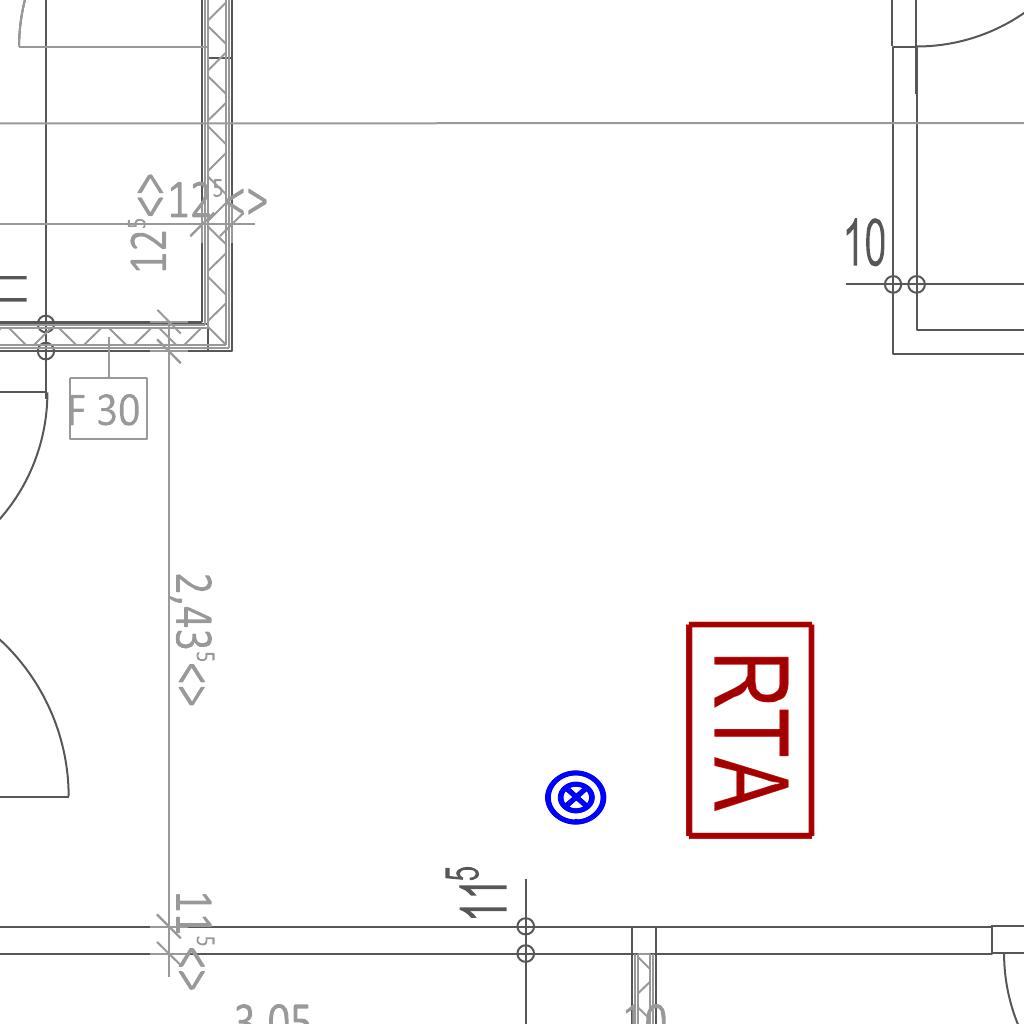Ruf-und_Abstelltaster: (681, 614, 819, 842)
Taster_beleuchtet: (543, 764, 609, 830)
